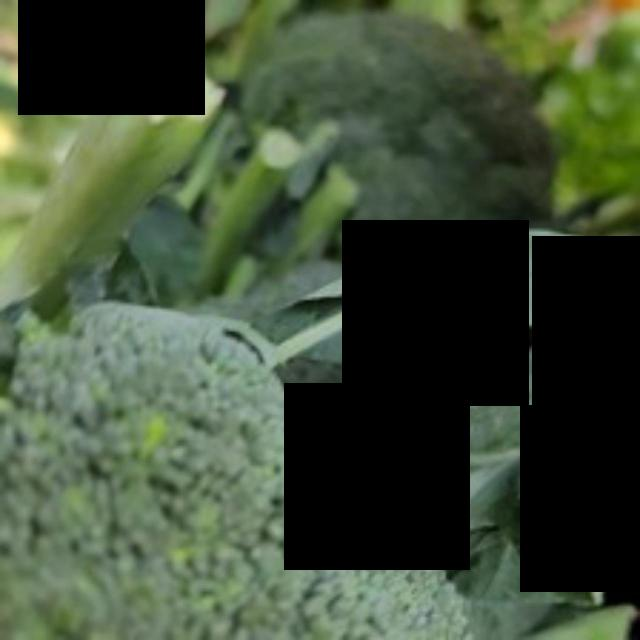broccoli: (0, 282, 482, 637)
